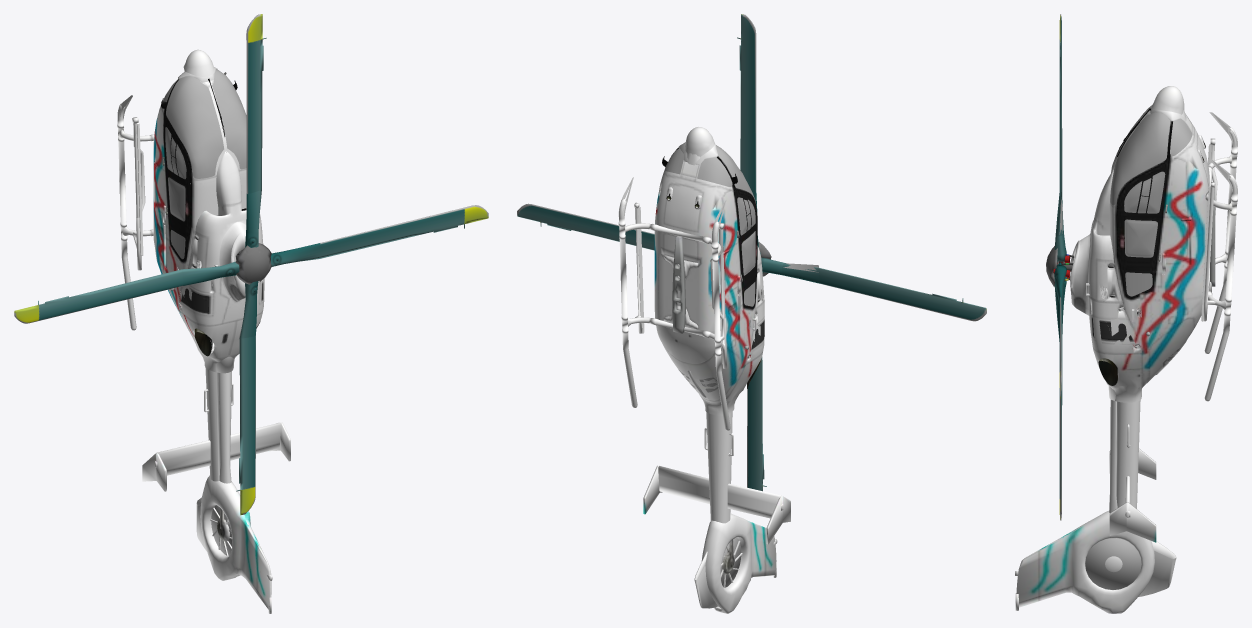
File: heli.glb
The picture shows the model from 3 angles, left to right: view 1: azimuth 30°, elevation 25°; view 2: azimuth 150°, elevation 25°; view 3: azimuth 270°, elevation 25°; orthographic projection. The views are drawn at different scales.
Visible parts, largest first — view 1: fuselage, windscreen, IBF, longskid_floats, blade3d, blade2d, blade4d, blade1d, rotorcap, backdoor_L, frontdoor_L, blade4b (+9 smaller); view 2: fuselage, longskid_floats, blade4d, blade3d, glas, blade2d, reardoor_L, DoubleCargoHook, frontdoor_L, backdoor_L, multifunctioncarrier, blade1d (+7 smaller); view 3: fuselage, longskid_floats, windscreen, backdoor_R, rotor_disc_T, frontdoor_R, IBF, frontdoorglas_R, backdoorglas_R, glas, reardoor_R, BigRadom (+7 smaller).
Boxes of the visible parts, left/top/right/bottom form: fuselage: left=142, top=79, right=290, bottom=613; windscreen: left=166, top=69, right=246, bottom=178; IBF: left=178, top=268, right=263, bottom=325; longskid_floats: left=117, top=103, right=154, bottom=330; blade3d: left=246, top=14, right=266, bottom=96; blade2d: left=413, top=205, right=488, bottom=236; blade4d: left=14, top=292, right=90, bottom=323; blade1d: left=236, top=433, right=255, bottom=515; rotorcap: left=235, top=243, right=271, bottom=284; backdoor_L: left=154, top=162, right=190, bottom=227; frontdoor_L: left=155, top=109, right=190, bottom=185; blade4b: left=135, top=269, right=183, bottom=297; fuselage: left=643, top=148, right=790, bottom=613; longskid_floats: left=618, top=199, right=730, bottom=430; blade4d: left=911, top=290, right=986, bottom=321; blade3d: left=737, top=14, right=756, bottom=95; glas: left=664, top=149, right=755, bottom=306; blade2d: left=517, top=203, right=591, bottom=234; reardoor_L: left=687, top=349, right=741, bottom=401; DoubleCargoHook: left=672, top=235, right=685, bottom=333; frontdoor_L: left=723, top=190, right=757, bottom=249; backdoor_L: left=723, top=225, right=757, bottom=293; multifunctioncarrier: left=634, top=202, right=727, bottom=368; blade1d: left=747, top=429, right=766, bottom=491; fuselage: left=1015, top=110, right=1209, bottom=613; longskid_floats: left=1204, top=127, right=1237, bottom=401; windscreen: left=1110, top=105, right=1170, bottom=205; backdoor_R: left=1118, top=215, right=1191, bottom=271; rotor_disc_T: left=1085, top=538, right=1141, bottom=589; frontdoor_R: left=1118, top=158, right=1187, bottom=217; IBF: left=1088, top=295, right=1141, bottom=353; frontdoorglas_R: left=1124, top=171, right=1165, bottom=213; backdoorglas_R: left=1124, top=219, right=1157, bottom=257; glas: left=1125, top=115, right=1192, bottom=296; reardoor_R: left=1148, top=318, right=1194, bottom=381; BigRadom: left=1150, top=86, right=1185, bottom=121.
Size of the model in its own units: 10.1 by 11.84 by 3.98.
Materials: 12 (5 with a texture image).
